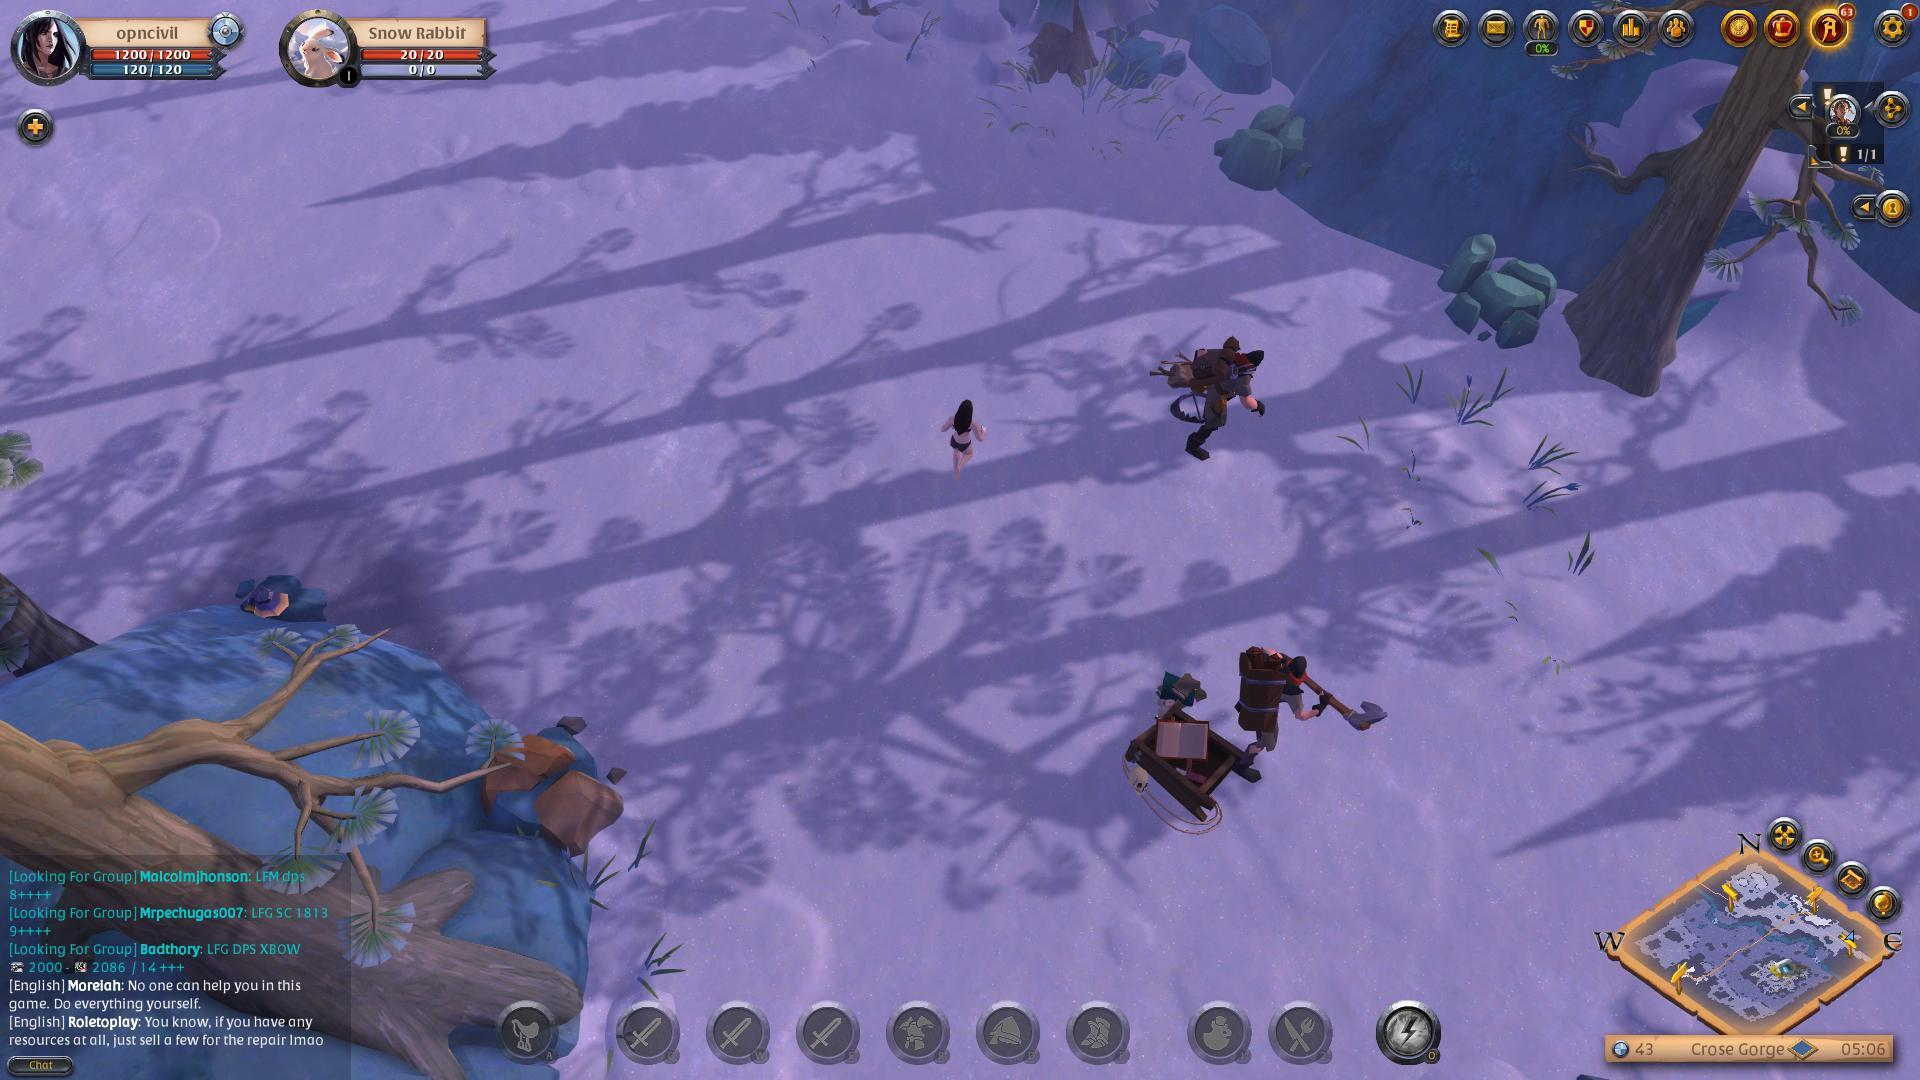copper_ore: (222, 572, 347, 637)
mob: (1221, 634, 1394, 793), (1143, 328, 1296, 434)
sandstone: (1419, 241, 1598, 347), (1203, 109, 1346, 196)
